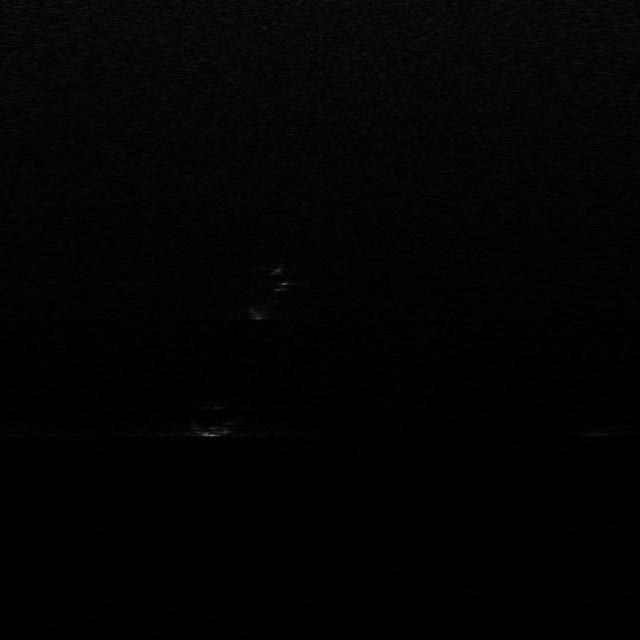ball: (184, 399, 237, 438)
tyre: (246, 265, 290, 322)
